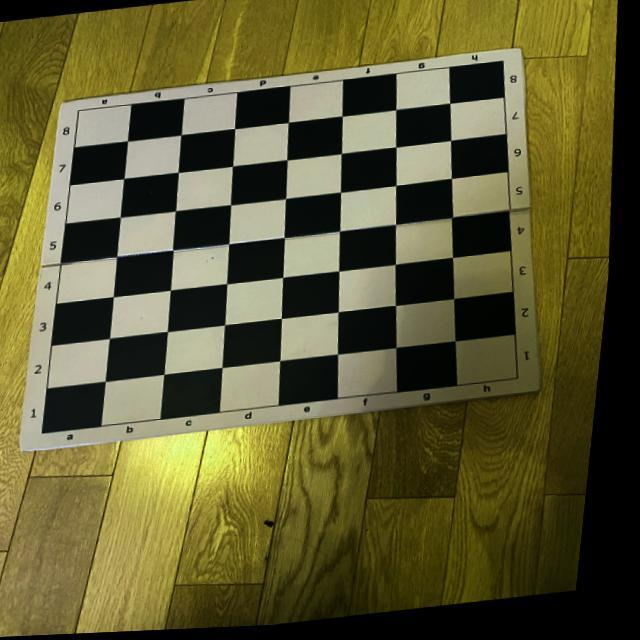chess-table-corners: (520, 378, 534, 387), (76, 106, 86, 116), (498, 62, 509, 70), (48, 431, 55, 436)
